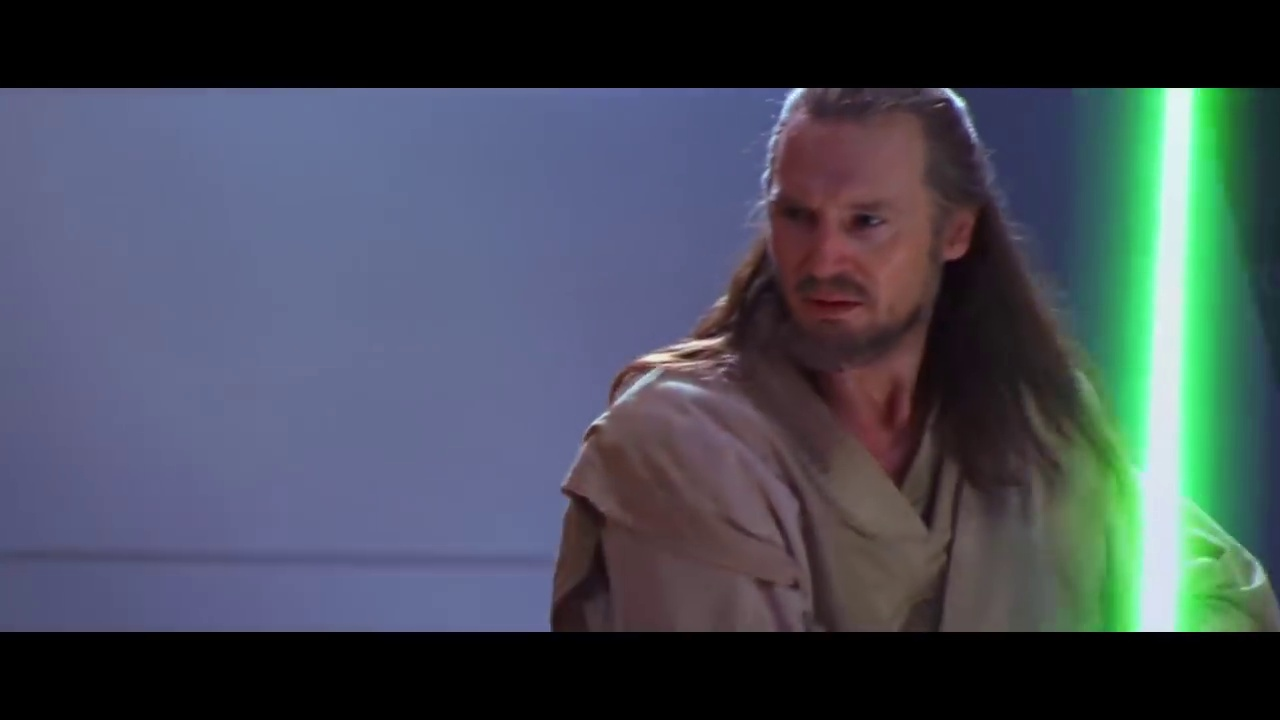lightsaber: (1129, 80, 1204, 629)
